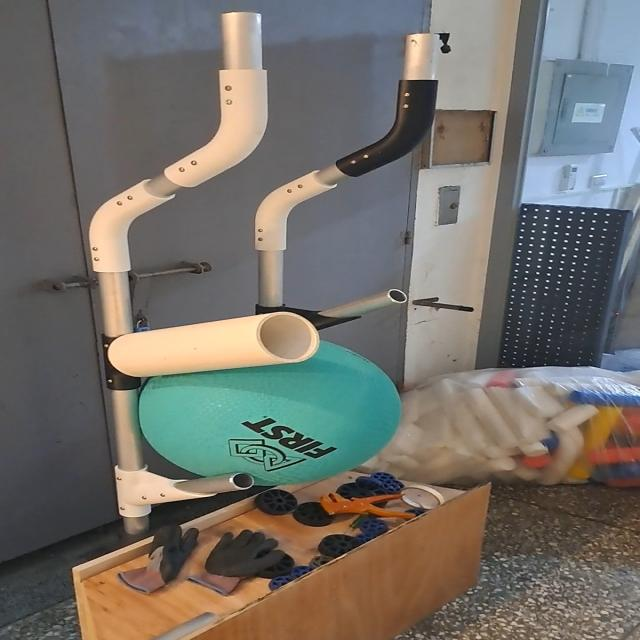ALGAE: (134, 348, 416, 484)
CORAL: (111, 308, 324, 379)
